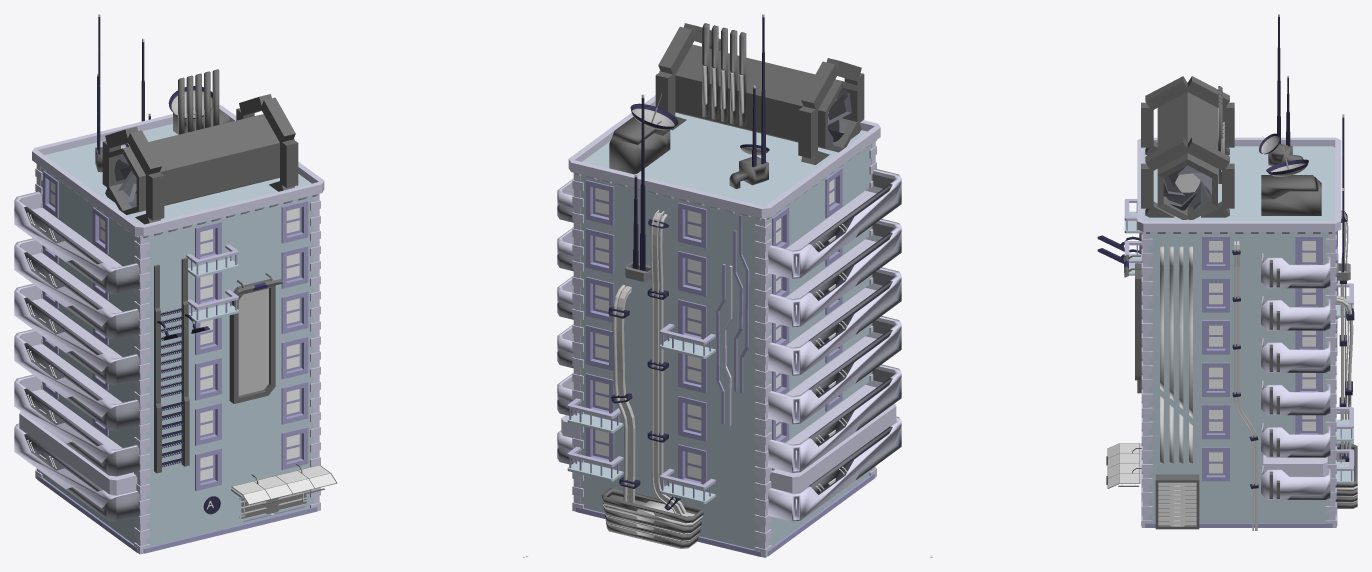
The picture shows the model from 3 angles, left to right: view 1: azimuth 30°, elevation 25°; view 2: azimuth 150°, elevation 25°; view 3: azimuth 270°, elevation 25°; orthographic projection. The views are drawn at different scales.
Parts seen in each view (by area): view 1: Rectangle.002; view 2: Rectangle.002; view 3: Rectangle.002.
Boxes of the visible parts, bbox=[...] form: Rectangle.002: bbox=[14, 14, 528, 557]; Rectangle.002: bbox=[557, 14, 901, 557]; Rectangle.002: bbox=[930, 14, 1357, 557].
Size of the model in its own units: 701 by 1062 by 917.
